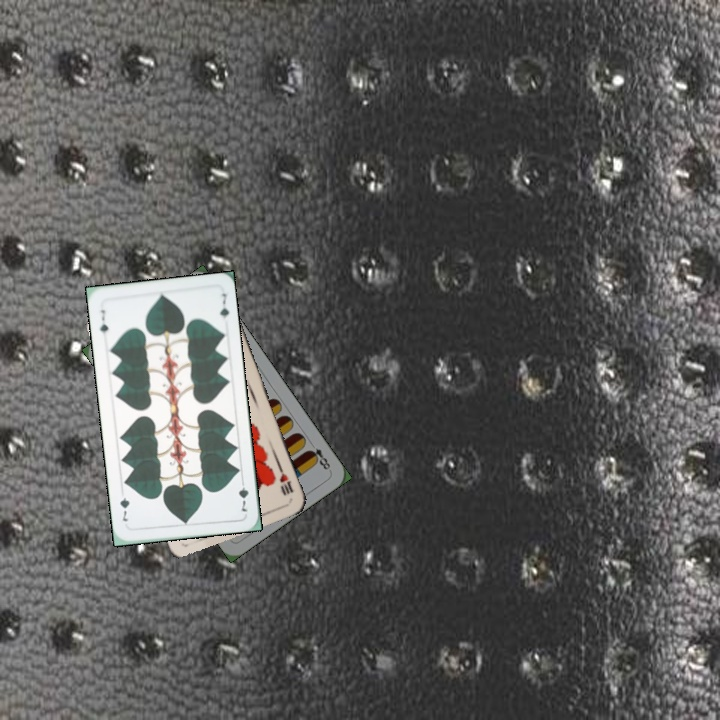E8: (304, 438, 333, 474)
G7: (234, 475, 251, 514), (96, 306, 111, 336)
H10: (274, 461, 296, 498)
